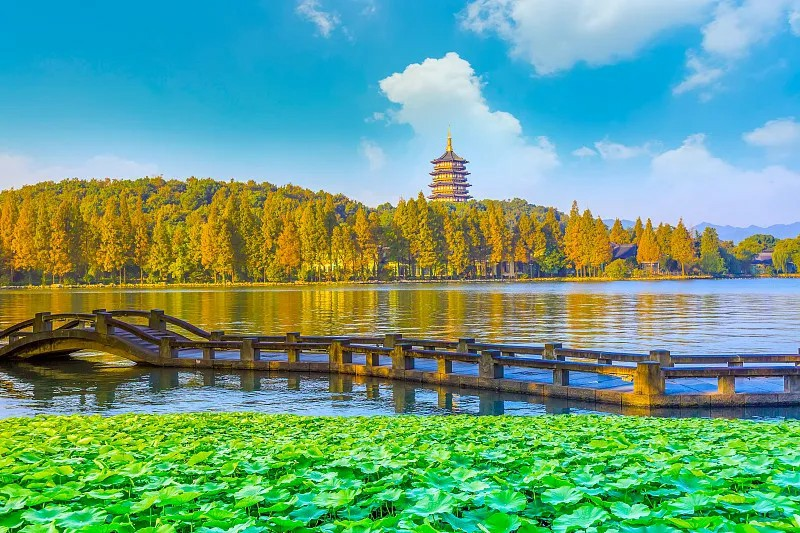Leifeng: (426, 127, 473, 204)
